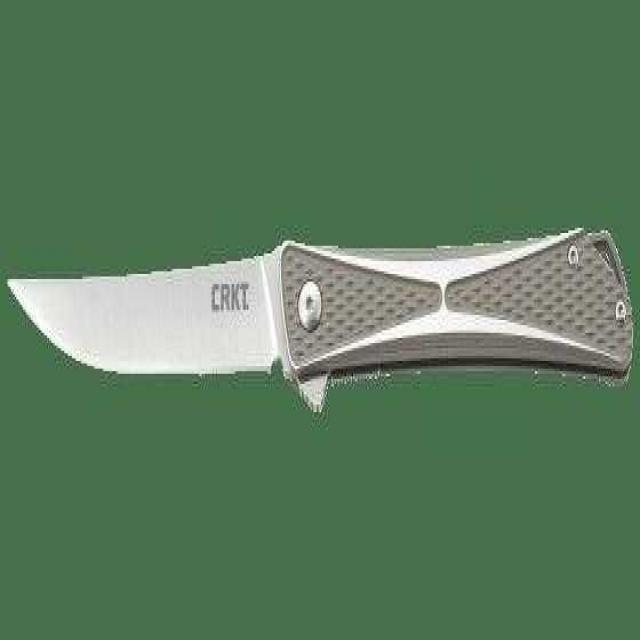knife: (0, 186, 640, 410)
